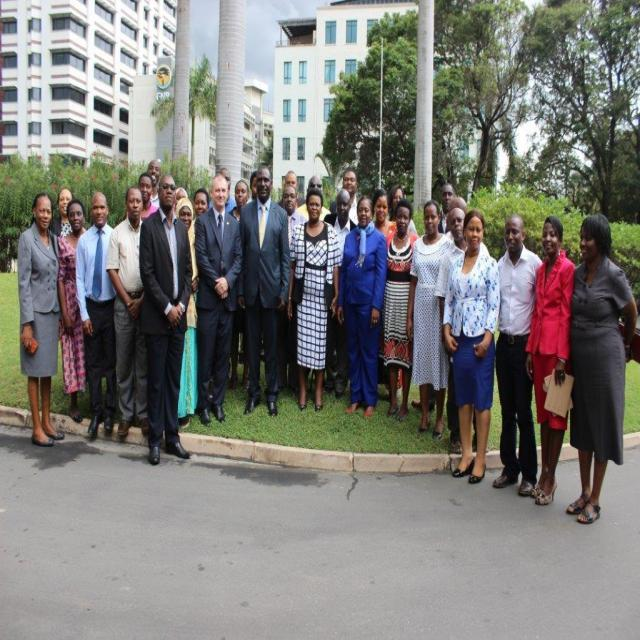body: (564, 212, 640, 524), (438, 206, 502, 487), (136, 170, 194, 470), (522, 211, 580, 509), (491, 211, 545, 498), (235, 160, 293, 419), (433, 206, 493, 456), (282, 184, 342, 414), (14, 187, 66, 449), (192, 170, 244, 426), (404, 197, 458, 443), (333, 193, 389, 423), (104, 186, 150, 440), (74, 191, 119, 437), (379, 198, 421, 422), (55, 197, 89, 425), (323, 188, 358, 400), (175, 196, 201, 431), (225, 178, 251, 393), (227, 178, 251, 370), (49, 185, 87, 241), (280, 184, 308, 254), (328, 168, 359, 226), (296, 173, 332, 222), (126, 172, 160, 222), (388, 184, 418, 235), (208, 166, 238, 214), (172, 186, 212, 220), (372, 187, 395, 241), (276, 169, 306, 209), (443, 190, 471, 229), (436, 182, 456, 235), (409, 381, 436, 416), (146, 158, 162, 209), (243, 167, 263, 206)
